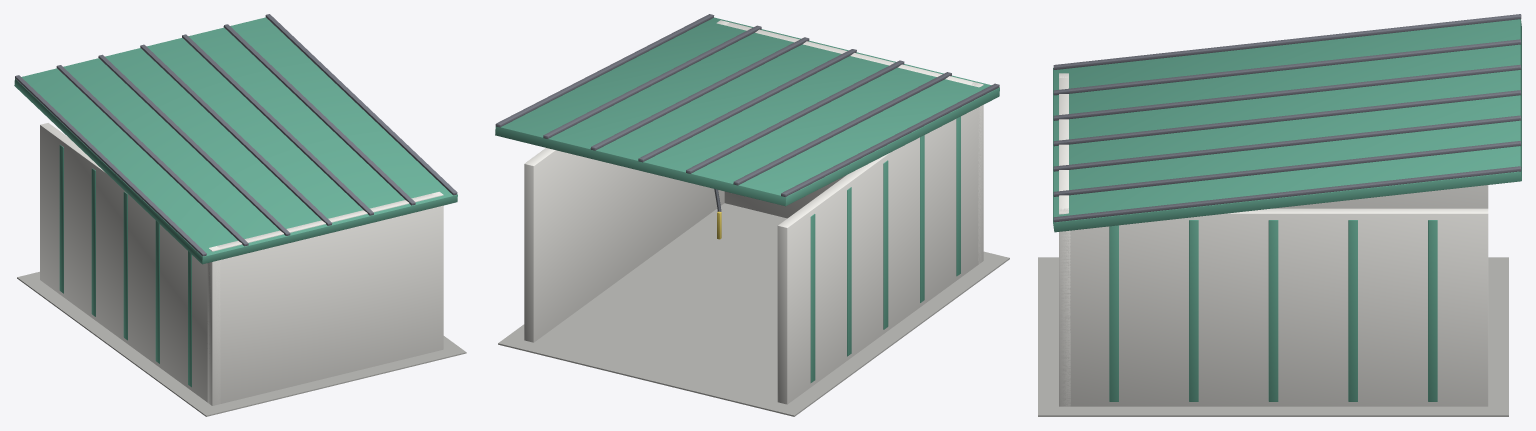
Rendered from th43_waschbox.glb.
3 renders of one model, left to right at view 1: azimuth 30°, elevation 25°; view 2: azimuth 150°, elevation 25°; view 3: azimuth 270°, elevation 25°, orthographic. The views are drawn at different scales.
Visible parts, largest first — view 1: Cube.014, Cube.013, Cube.001, Cube, Cube.015, Cube.021, Cube.020, Cube.016, Cube.018, Cube.019, Cube.017, Cube.004 (+4 smaller); view 2: Cube.014, Cube, Cube.001, Cube.007, Cube.013, Cube.015, Cube.021, Cube.017, Cube.016, Cube.018, Cube.019, Cube.020 (+5 smaller); view 3: Cube.007, Cube.014, Cube, Cube.013, Cube.001, Cube.021, Cube.015, Cube.020, Cube.017, Cube.018, Cube.016, Cube.019 (+5 smaller).
Part boxes in pixels (bbox=[...]): Cube.014: bbox=[14, 17, 457, 264]; Cube.013: bbox=[207, 192, 443, 405]; Cube.001: bbox=[40, 123, 220, 405]; Cube: bbox=[17, 271, 466, 416]; Cube.015: bbox=[15, 75, 206, 256]; Cube.021: bbox=[265, 14, 457, 195]; Cube.020: bbox=[223, 24, 415, 205]; Cube.016: bbox=[56, 65, 248, 246]; Cube.018: bbox=[140, 44, 332, 225]; Cube.019: bbox=[182, 34, 373, 215]; Cube.017: bbox=[98, 54, 290, 235]; Cube.004: bbox=[123, 191, 127, 340]; Cube.014: bbox=[495, 17, 999, 206]; Cube: bbox=[498, 203, 1009, 416]; Cube.001: bbox=[777, 82, 983, 404]; Cube.007: bbox=[524, 20, 728, 342]; Cube.013: bbox=[718, 21, 983, 263]; Cube.015: bbox=[781, 83, 999, 196]; Cube.021: bbox=[495, 14, 714, 127]; Cube.017: bbox=[686, 60, 904, 173]; Cube.016: bbox=[733, 72, 951, 185]; Cube.018: bbox=[638, 49, 856, 162]; Cube.019: bbox=[590, 37, 809, 150]; Cube.020: bbox=[543, 25, 761, 138]; Cube.007: bbox=[1059, 208, 1488, 406]; Cube.014: bbox=[1053, 19, 1521, 232]; Cube: bbox=[1038, 257, 1508, 416]; Cube.013: bbox=[1059, 73, 1070, 406]; Cube.001: bbox=[1059, 73, 1488, 208]; Cube.021: bbox=[1053, 166, 1521, 222]; Cube.015: bbox=[1053, 14, 1521, 69]; Cube.020: bbox=[1053, 141, 1521, 196]; Cube.017: bbox=[1053, 64, 1521, 120]; Cube.018: bbox=[1053, 90, 1521, 146]; Cube.016: bbox=[1053, 39, 1521, 95]; Cube.019: bbox=[1053, 115, 1521, 171].
Bounding box in the file's own units: 5.4 × 3.93 × 6.98.
